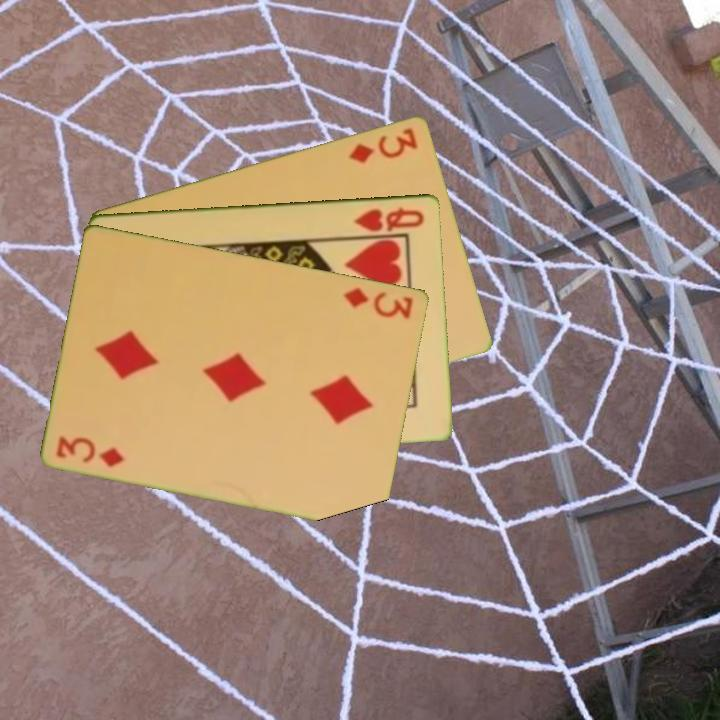3d: (345, 124, 421, 166), (340, 283, 416, 321), (53, 432, 127, 470)
Qh: (351, 203, 427, 234)
